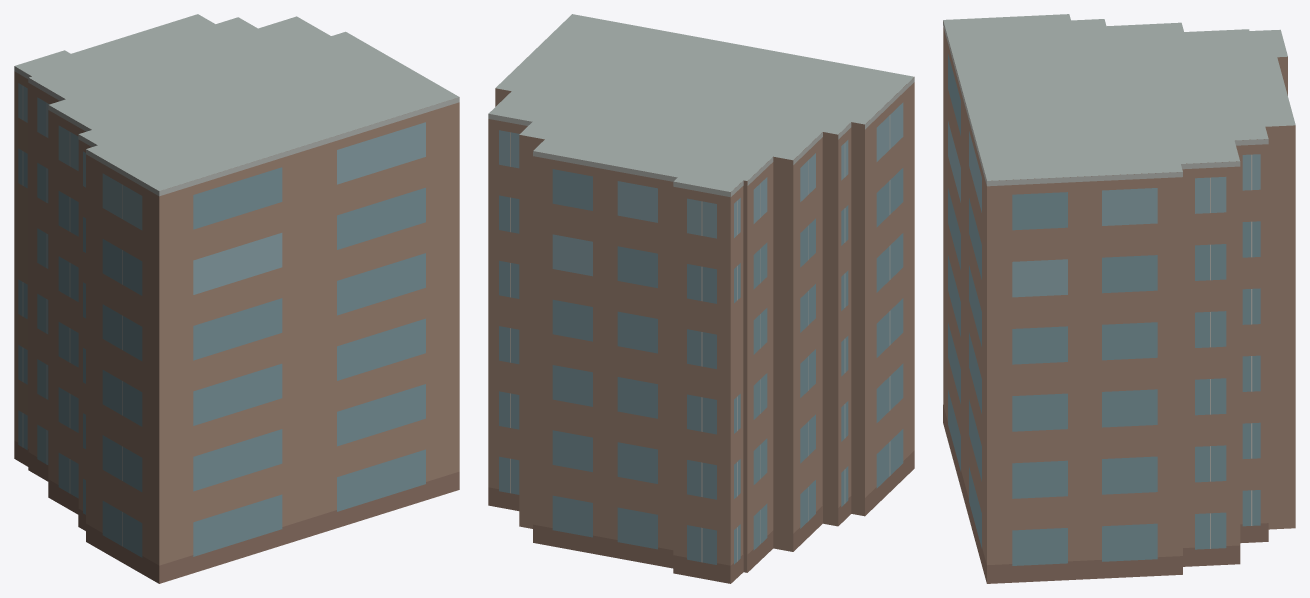
The model's file is survey-upis-32599948.glb.
The picture shows the model from 3 angles, left to right: view 1: azimuth 30°, elevation 25°; view 2: azimuth 150°, elevation 25°; view 3: azimuth 270°, elevation 25°; orthographic projection. The views are drawn at different scales.
Visible parts, largest first — view 1: survey-upis-32599948.tmp; view 2: survey-upis-32599948.tmp; view 3: survey-upis-32599948.tmp.
Part boxes in pixels (x1=…): survey-upis-32599948.tmp: x1=14, y1=14, x2=459, y2=583; survey-upis-32599948.tmp: x1=488, y1=14, x2=914, y2=583; survey-upis-32599948.tmp: x1=943, y1=14, x2=1295, y2=583.
Size of the model in its own units: 16.5 by 18.55 by 14.73.
